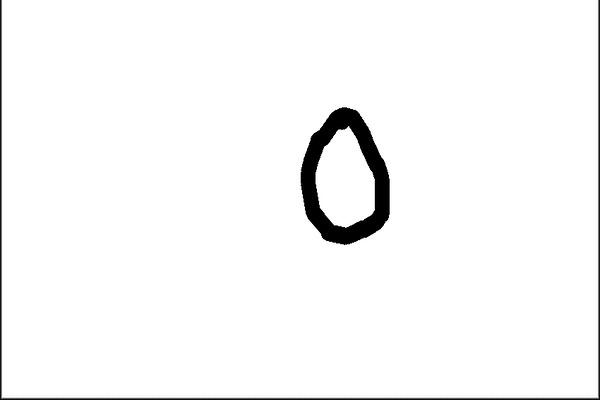O: (287, 95, 402, 255)
